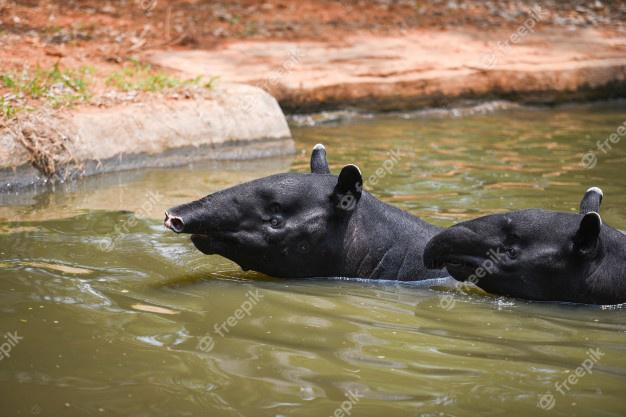Anta: (158, 135, 444, 289), (427, 184, 626, 313)
